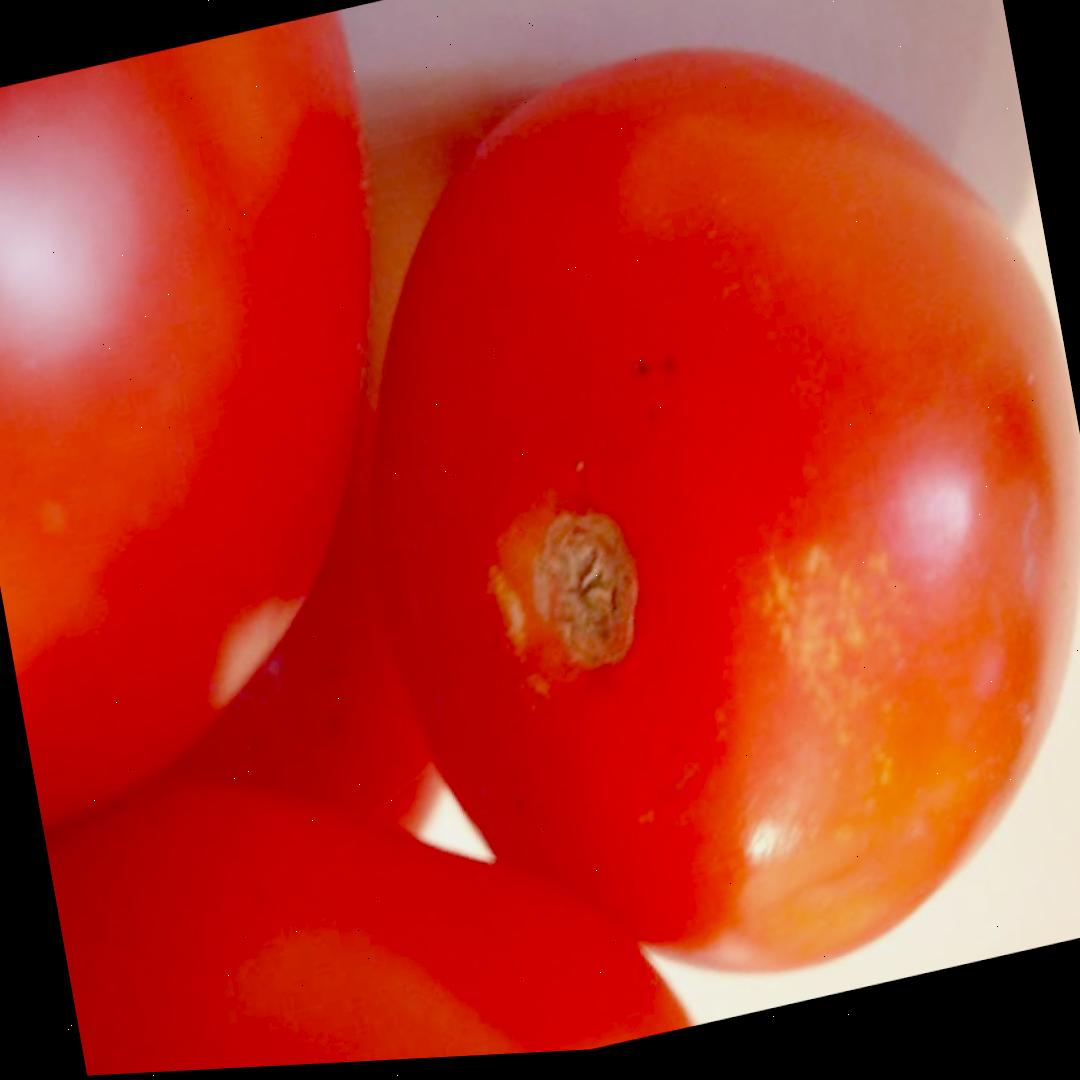matang: (294, 0, 1080, 1057)
